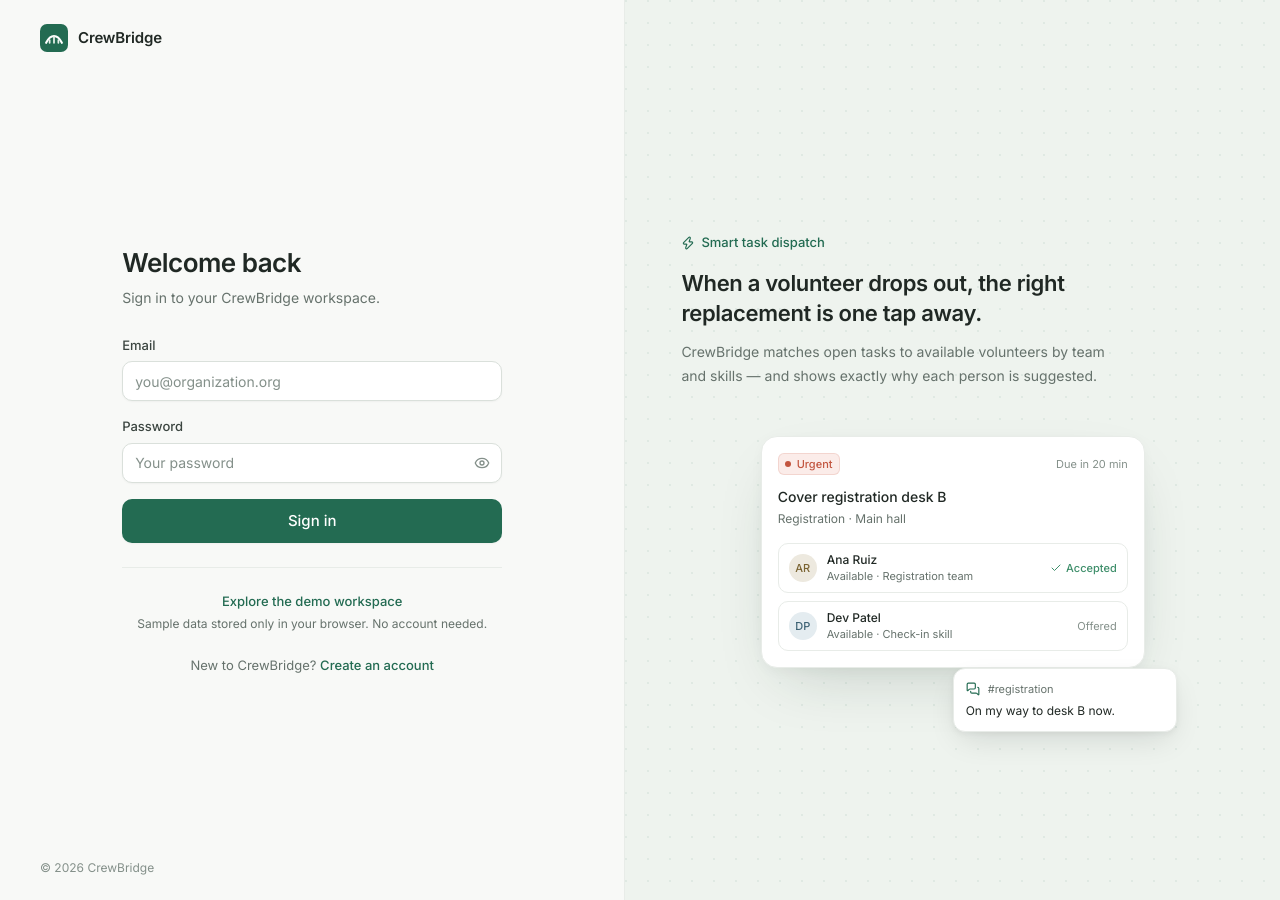
Test: LoginPage › reports an unreachable server instead of pretending to sign in
Type "ana@example.org" into the field labelled "Email" at (312, 381), box [122, 361, 502, 401]
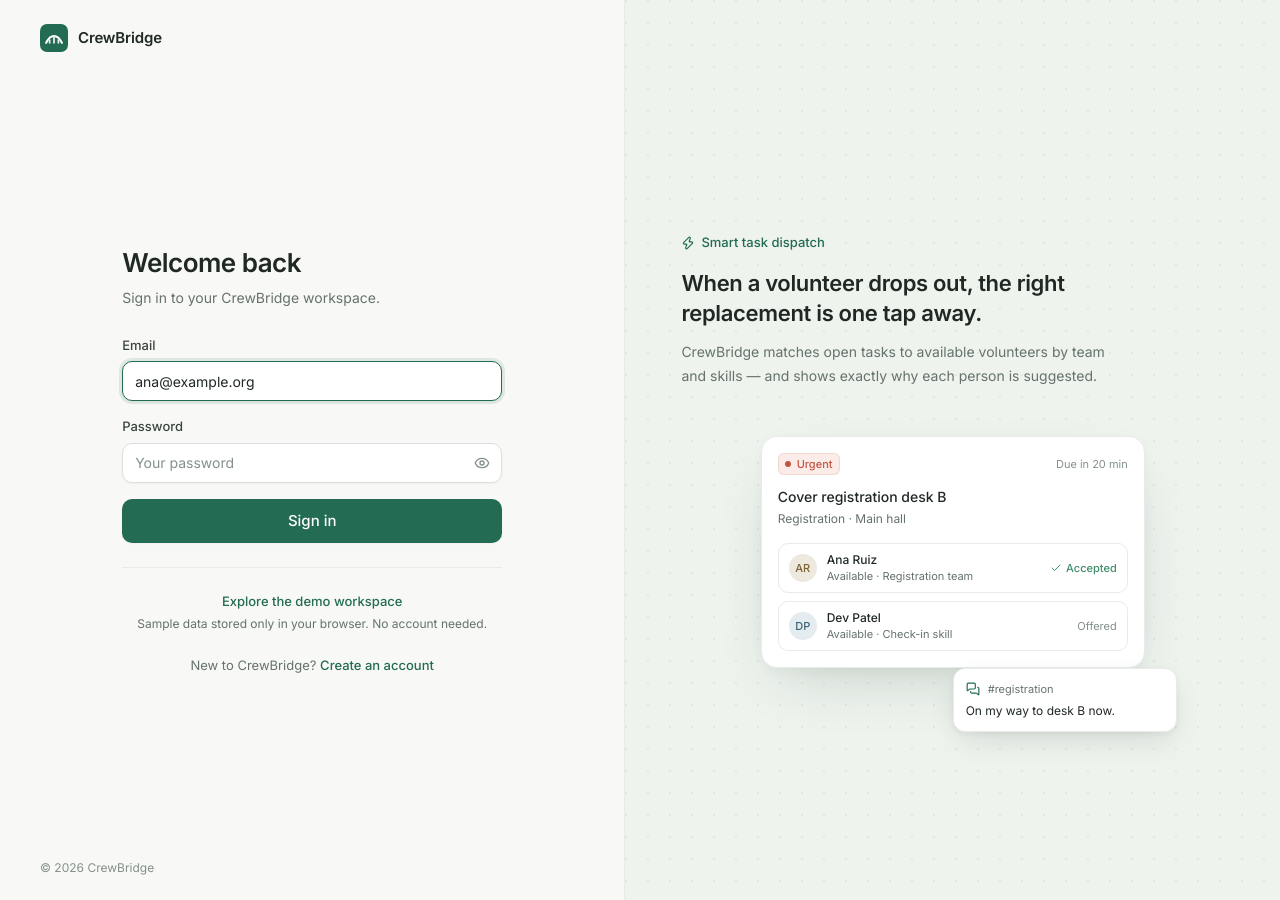
Type "secret123" into the password field labelled "Password" at (312, 463), box [122, 443, 502, 483]
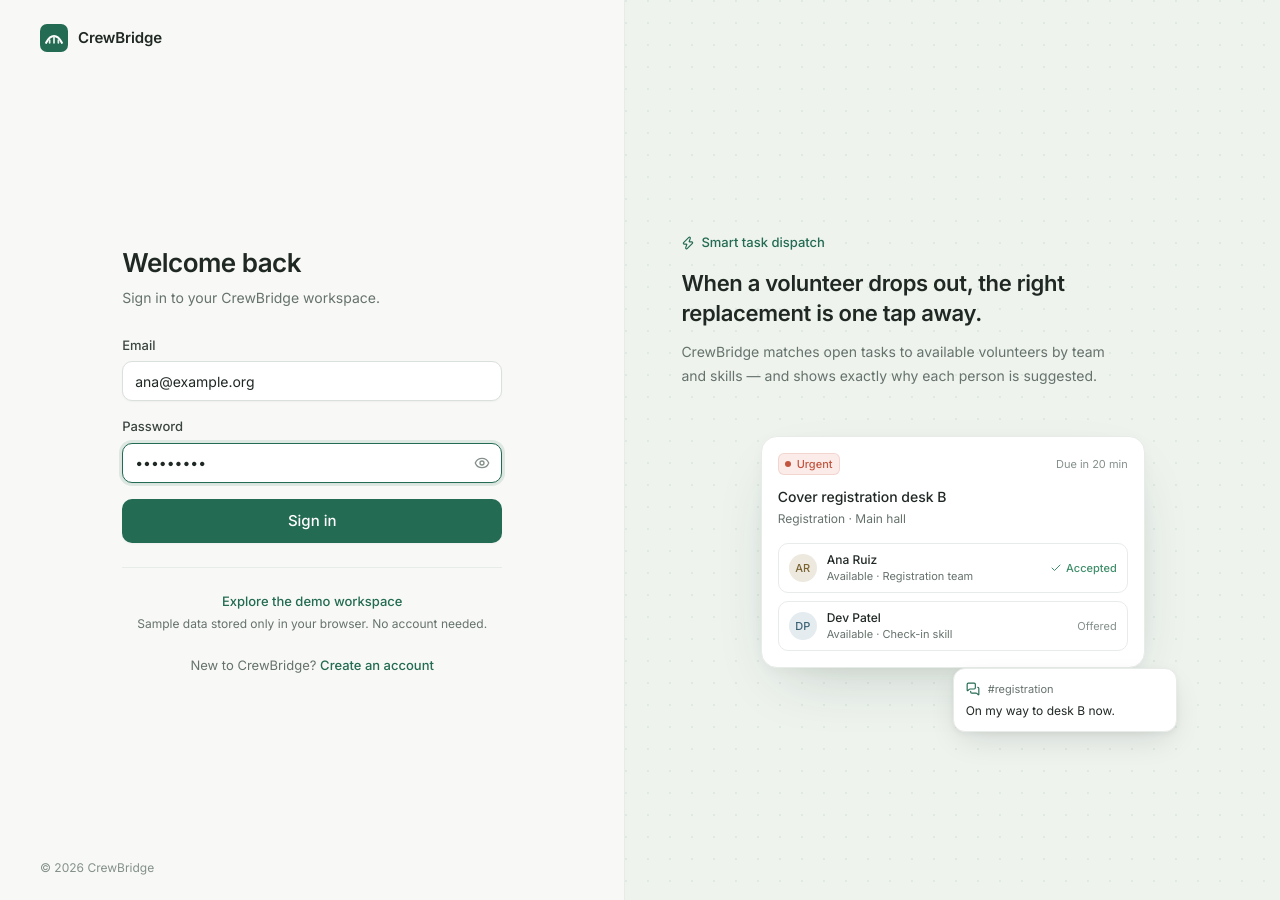
Click the button "Sign in" at (312, 521), box [122, 499, 502, 543]
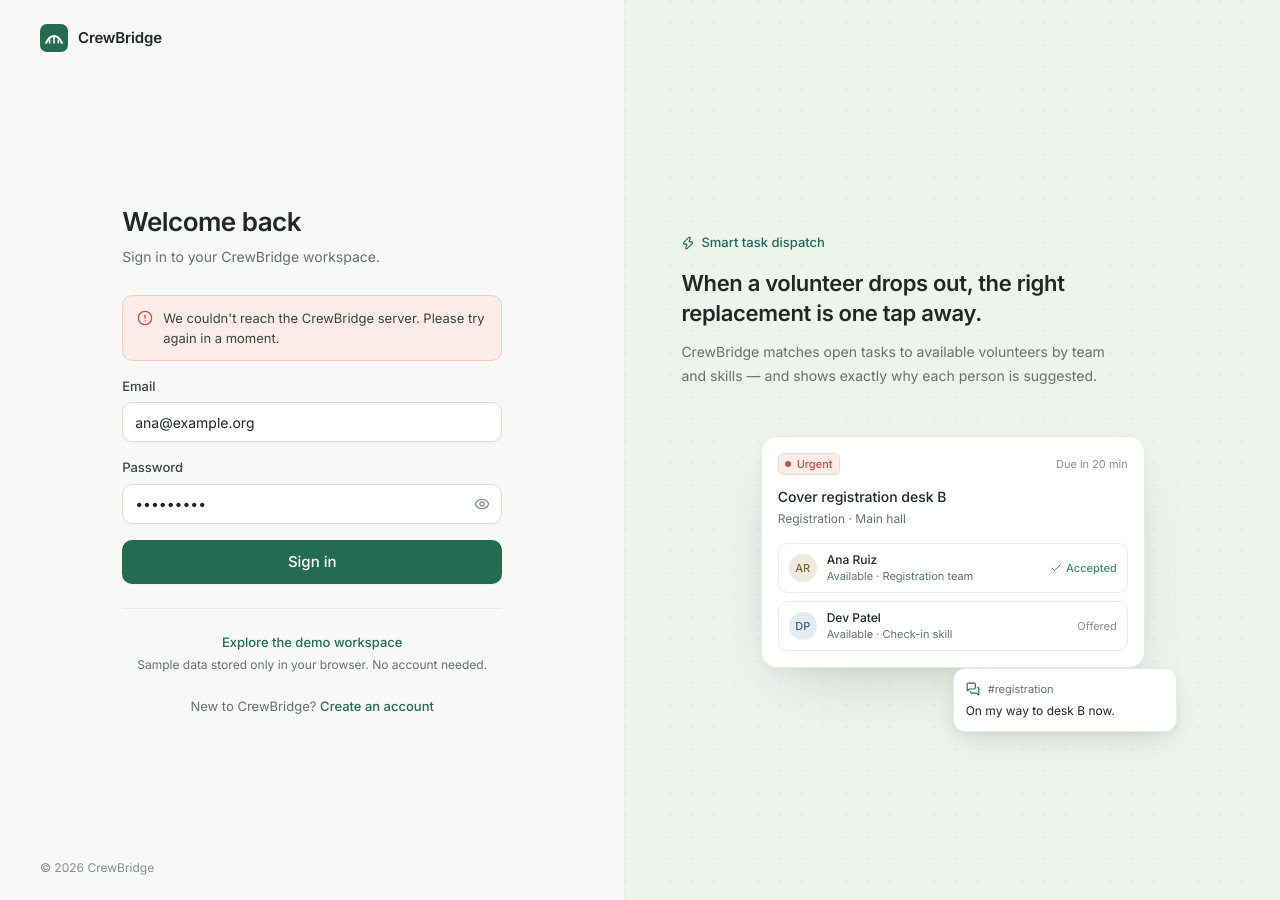
Expected: the text "couldn't reach the CrewBridge server" is shown, [163, 310, 485, 346]
